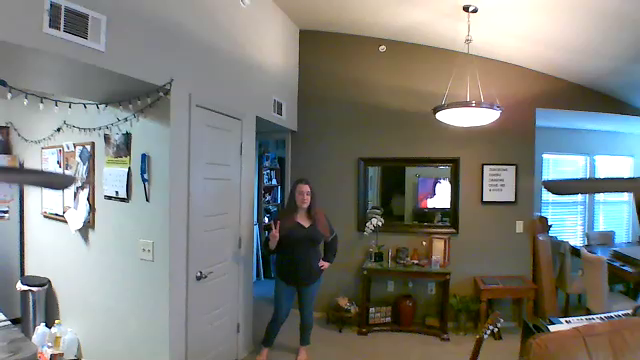peace: (264, 217, 287, 250)
